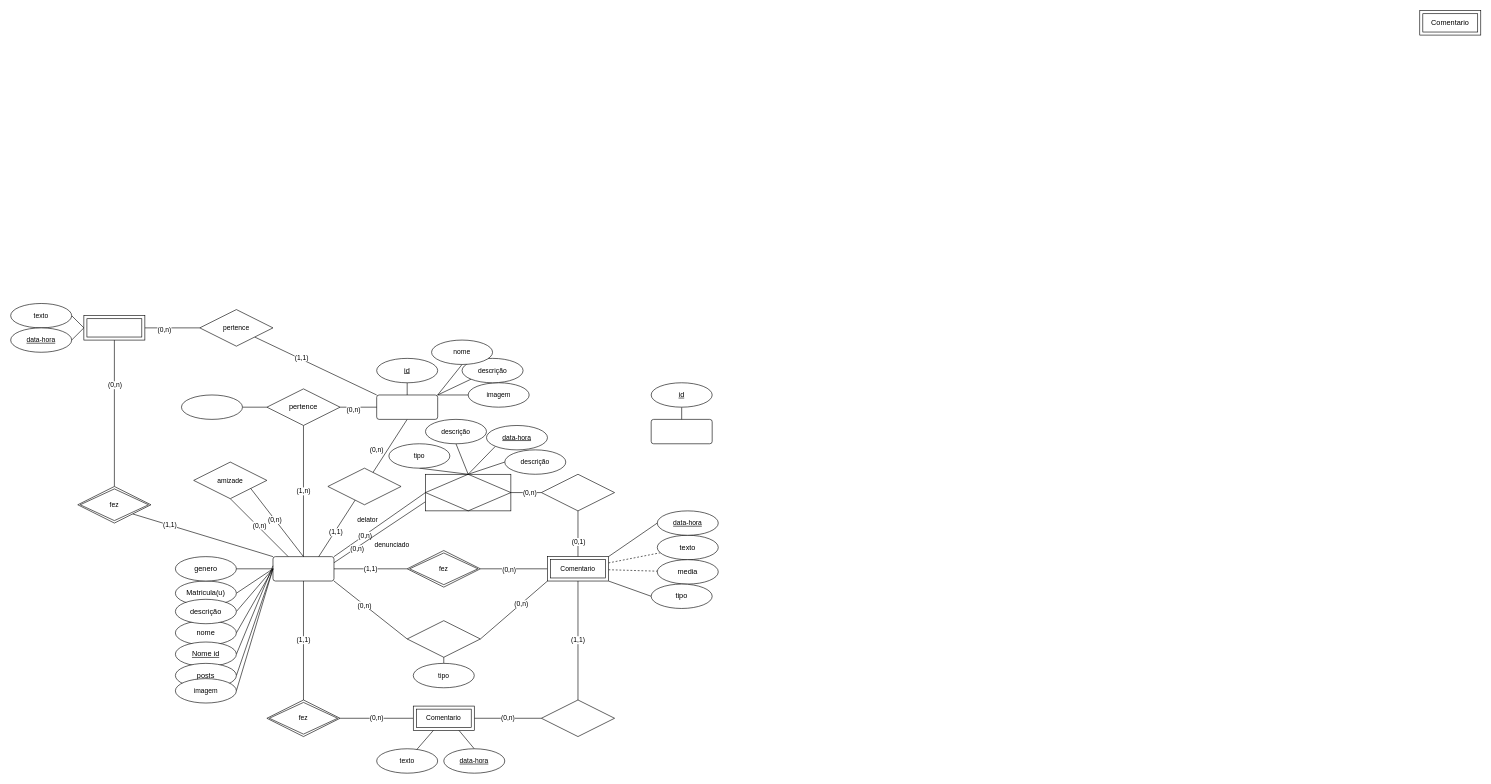
The diagram is 1491 pixels wide and 784 high, and some of its shapes have lost their labels. Each missing label, with the centre of its shape:
"associada" goes at (x=578, y=492).
"criou" goes at (x=364, y=486).
"Denuncia" goes at (x=468, y=492).
"Grupo" goes at (x=407, y=406).
"Mensagem" goes at (x=114, y=327).
"Moderador" goes at (x=681, y=431).
"possui" goes at (x=578, y=718).
"reagiu" goes at (x=443, y=638).
"ser ou não adm" goes at (x=211, y=406).
"Usuario" goes at (x=303, y=568).
